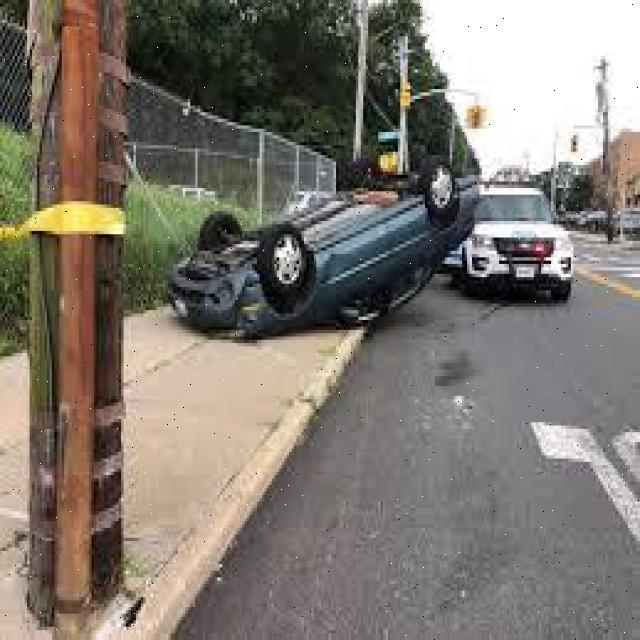severe: (162, 152, 480, 340)
